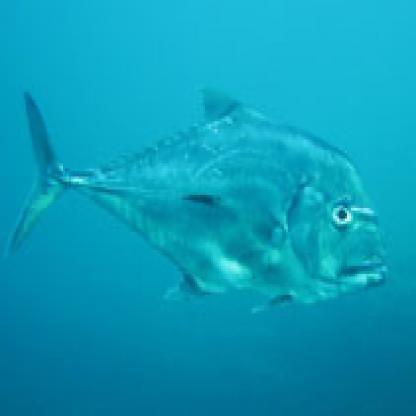jack: (7, 69, 391, 317)
